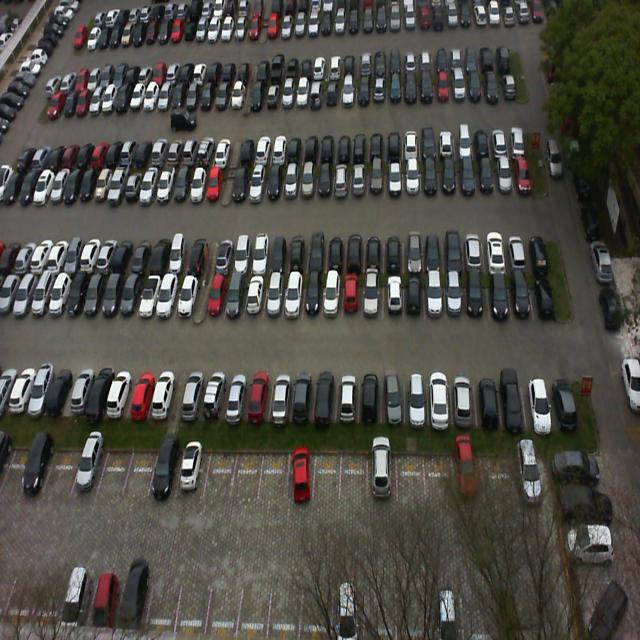space-empty: (94, 445, 132, 502), (123, 442, 157, 502), (43, 445, 79, 499), (231, 451, 264, 505), (204, 448, 238, 498), (312, 451, 342, 507), (259, 448, 291, 500)
space-occupied: (71, 446, 106, 501), (148, 444, 182, 500), (545, 370, 576, 426), (175, 445, 209, 495), (223, 370, 254, 424), (21, 446, 55, 494), (499, 373, 527, 431), (64, 367, 93, 421), (476, 372, 502, 429), (523, 371, 549, 428), (222, 272, 249, 326), (117, 271, 145, 323), (83, 371, 112, 421), (288, 449, 314, 504), (136, 267, 162, 321), (428, 375, 454, 429), (452, 374, 479, 426), (106, 371, 134, 421), (268, 373, 294, 425), (312, 372, 336, 428), (154, 274, 180, 324), (127, 370, 153, 420), (203, 370, 229, 420), (246, 372, 272, 422), (262, 270, 286, 324), (530, 270, 557, 318), (148, 374, 175, 422), (359, 371, 382, 426), (174, 272, 198, 324), (405, 374, 429, 426), (101, 270, 125, 320), (241, 275, 265, 325), (335, 373, 359, 423), (290, 372, 313, 424), (382, 371, 405, 423), (486, 273, 511, 320), (483, 227, 507, 275), (181, 373, 206, 419), (443, 226, 466, 273), (205, 273, 225, 327), (130, 236, 156, 276), (113, 238, 140, 276), (505, 227, 527, 273), (525, 229, 549, 271), (303, 276, 324, 324), (167, 238, 193, 276), (467, 275, 488, 322), (148, 237, 172, 278), (509, 276, 531, 320), (188, 164, 211, 206), (322, 277, 343, 323), (444, 277, 467, 319), (282, 276, 302, 324), (425, 229, 445, 276), (188, 239, 212, 278), (155, 165, 177, 207), (172, 165, 194, 207), (139, 165, 162, 205), (511, 156, 534, 196), (404, 226, 424, 272), (363, 276, 383, 322), (404, 274, 424, 320), (426, 276, 446, 322), (382, 231, 404, 272), (204, 166, 226, 206), (287, 234, 309, 274), (464, 228, 484, 272), (231, 164, 252, 205), (229, 238, 251, 277), (251, 235, 273, 273), (345, 231, 364, 275), (384, 276, 402, 322), (213, 239, 235, 275), (268, 236, 290, 272), (345, 275, 362, 321), (307, 234, 327, 273), (324, 235, 344, 273), (364, 235, 383, 273), (458, 162, 478, 198), (478, 158, 496, 198), (299, 166, 317, 205), (283, 164, 300, 205), (250, 166, 268, 204), (368, 162, 386, 200), (494, 160, 514, 194), (267, 166, 283, 207), (333, 165, 350, 201), (403, 163, 421, 197), (422, 163, 440, 197), (388, 162, 404, 200), (440, 162, 458, 195), (316, 166, 332, 200), (351, 164, 367, 198)
